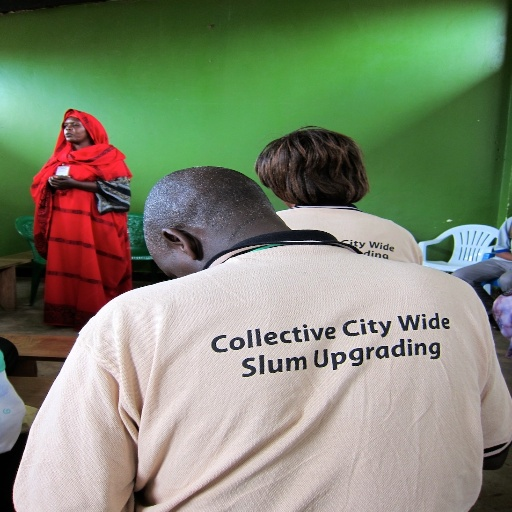hand: (48, 174, 72, 189)
